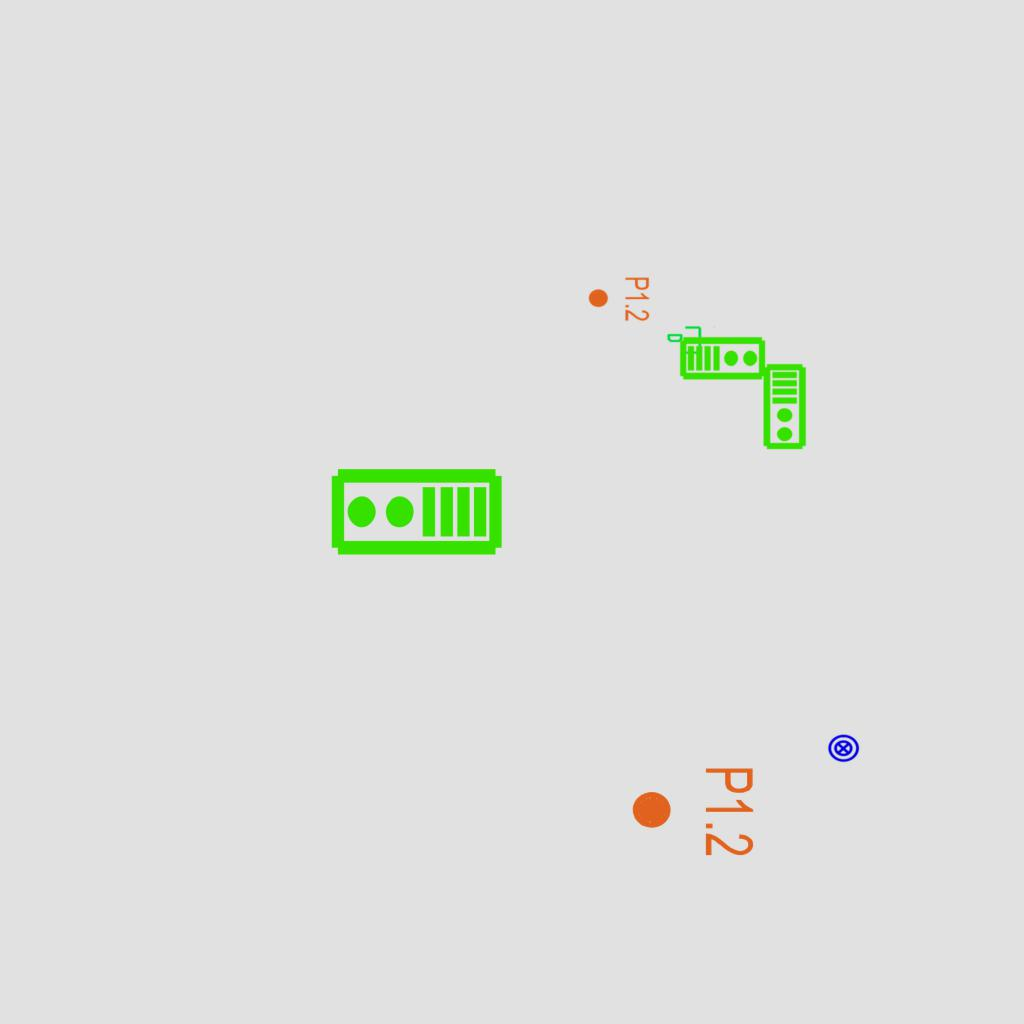Datenanschluss_einfach: (666, 324, 716, 358)
Downlight_LED_Einbauleuchten_Flur: (629, 765, 757, 858), (587, 276, 651, 322)
Gegensprechanlage_mit_Video: (328, 466, 504, 561), (762, 363, 809, 451), (679, 334, 767, 381)
Taster_beleuchtet: (827, 732, 860, 765)
